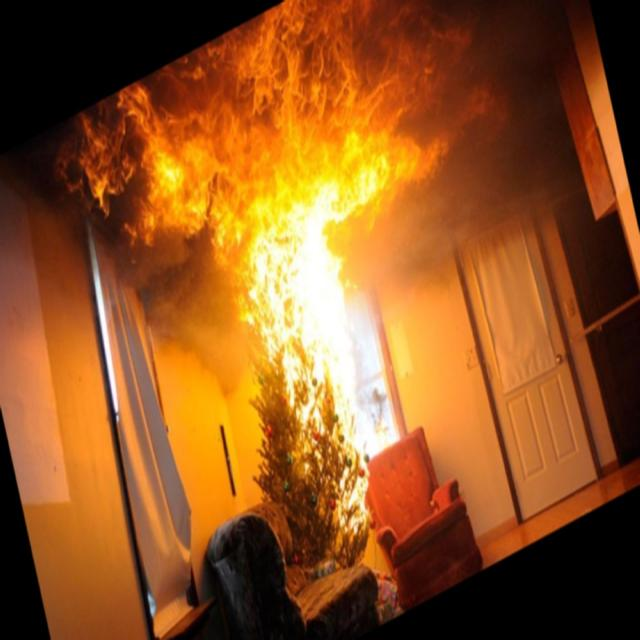fire: (65, 0, 570, 618)
